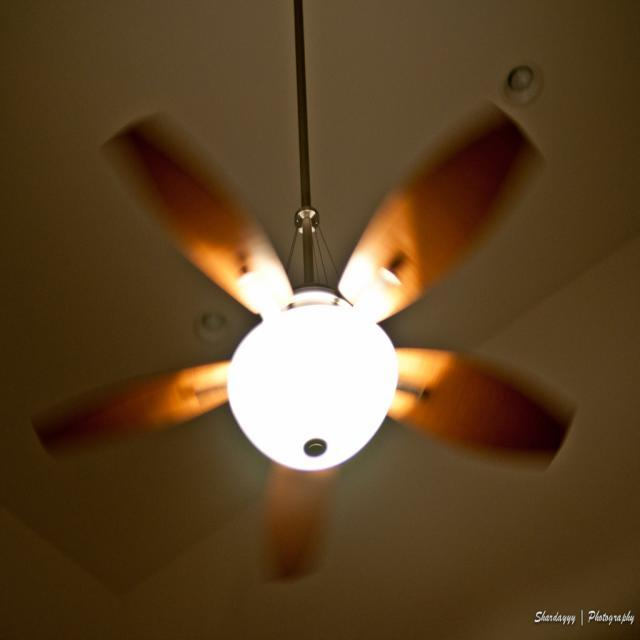fan_on: (36, 0, 576, 585)
